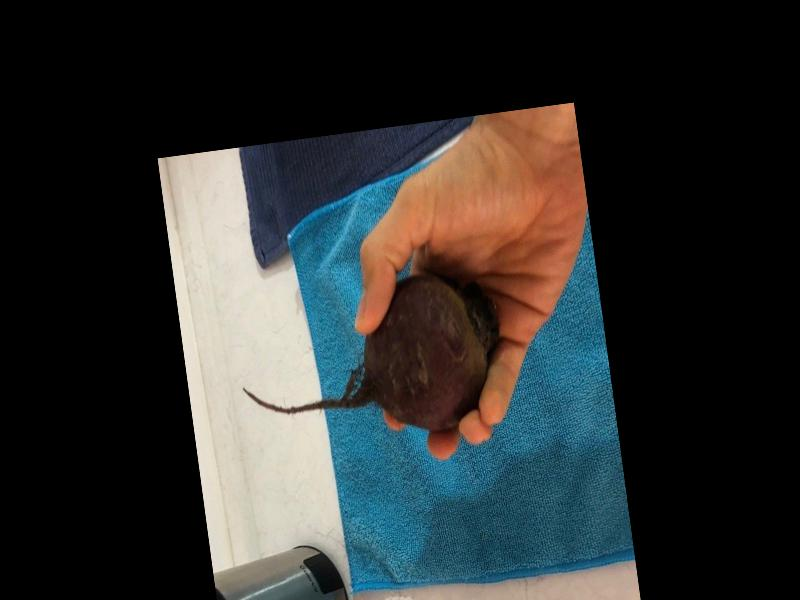Beet: (231, 264, 512, 456)
